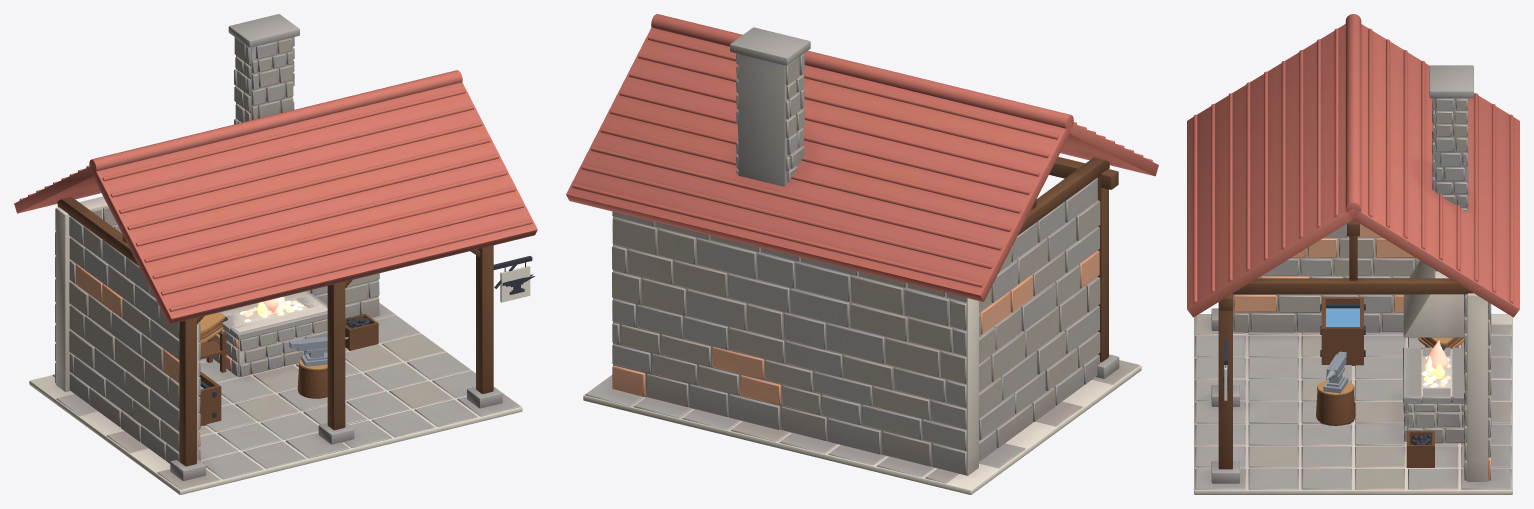
File: blacksmith-forge.glb
The picture shows the model from 3 angles, left to right: view 1: azimuth 30°, elevation 25°; view 2: azimuth 150°, elevation 25°; view 3: azimuth 270°, elevation 25°; orthographic projection. The views are drawn at different scales.
Parts seen in each view (by area): view 1: blacksmith-forge_body, blacksmith-forge_details, blacksmith-forge_embers; view 2: blacksmith-forge_body; view 3: blacksmith-forge_body, blacksmith-forge_details, blacksmith-forge_embers.
Boxes of the visible parts, x1,y1,x2,y2 form: blacksmith-forge_body: [14, 14, 537, 494]; blacksmith-forge_details: [198, 256, 534, 425]; blacksmith-forge_embers: [239, 296, 303, 322]; blacksmith-forge_body: [566, 14, 1158, 494]; blacksmith-forge_body: [1187, 14, 1519, 494]; blacksmith-forge_details: [1223, 297, 1463, 467]; blacksmith-forge_embers: [1421, 340, 1451, 387].
Size of the model in its own units: 6.55 by 5.4 by 4.69.
Materials: 14 (1 with a texture image).
